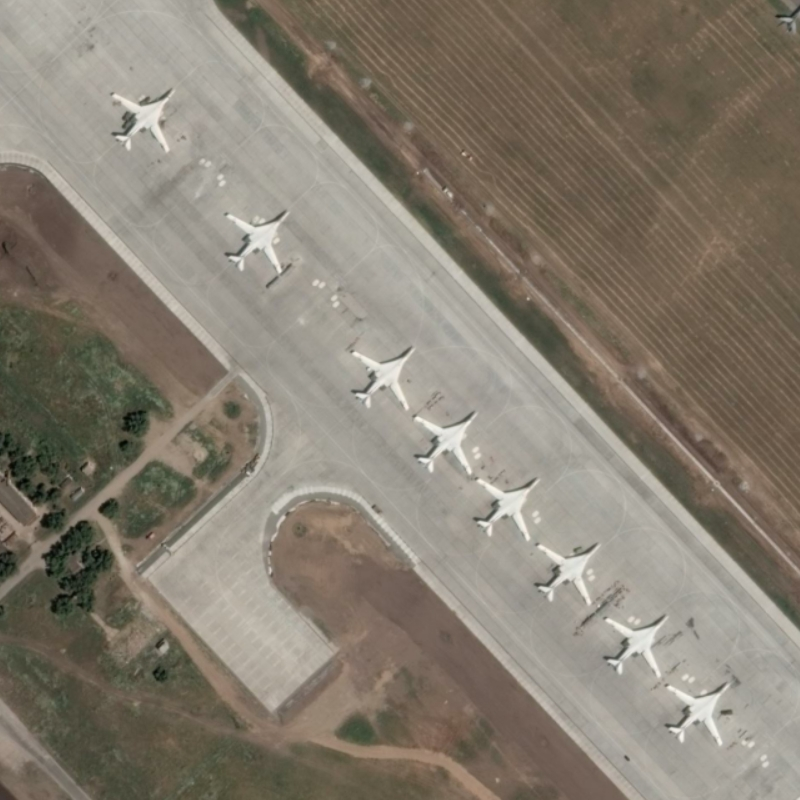A6: (533, 535, 603, 610), (345, 342, 417, 414), (107, 84, 178, 156), (408, 407, 480, 478), (474, 473, 546, 543), (600, 610, 672, 679), (219, 208, 292, 276), (663, 679, 733, 748)
